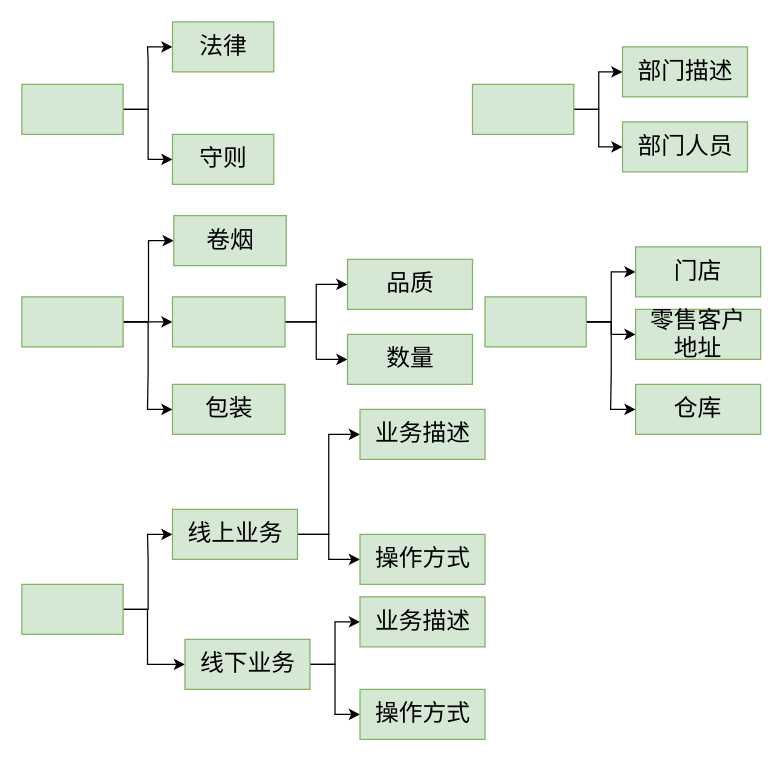
This 783x761 diagram has some shape labels left out. The box of each missing label's shape, as (x1, y1, x2, y2) in pixels:
业务: (21, 583, 123, 634)
产品: (21, 296, 123, 347)
地点: (484, 296, 586, 347)
烟叶: (171, 296, 285, 347)
规章: (21, 83, 123, 134)
部门: (471, 83, 574, 134)
